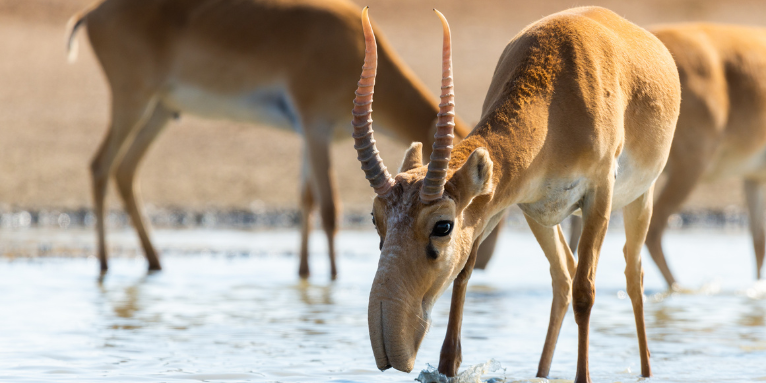saiga: (352, 4, 685, 380)
